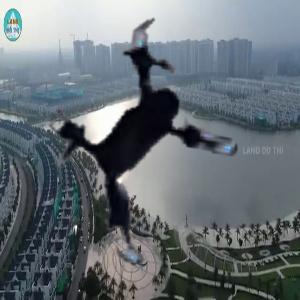drone: (19, 6, 297, 284)
